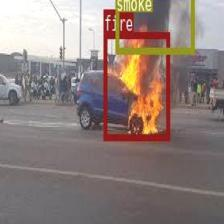fire: (104, 31, 170, 139)
smoke: (114, 0, 194, 53)
